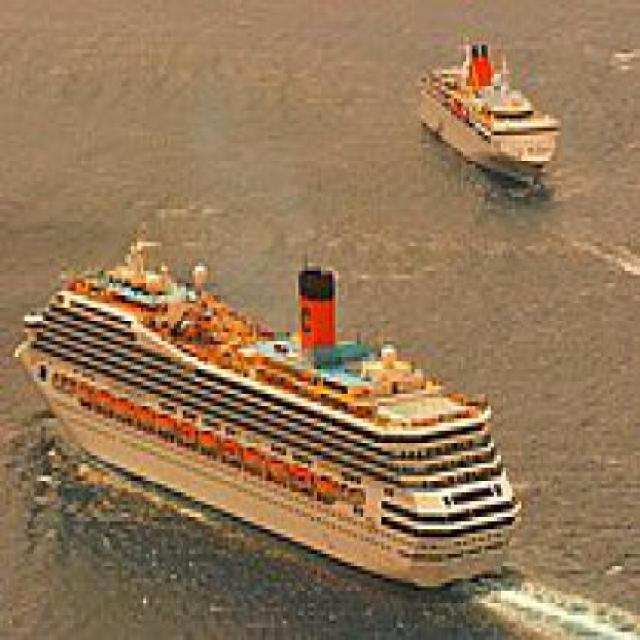cruise: (13, 227, 532, 596), (412, 22, 568, 206)
